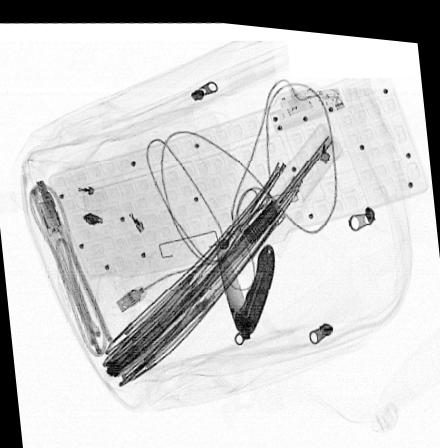Knife: (213, 235, 274, 335)
